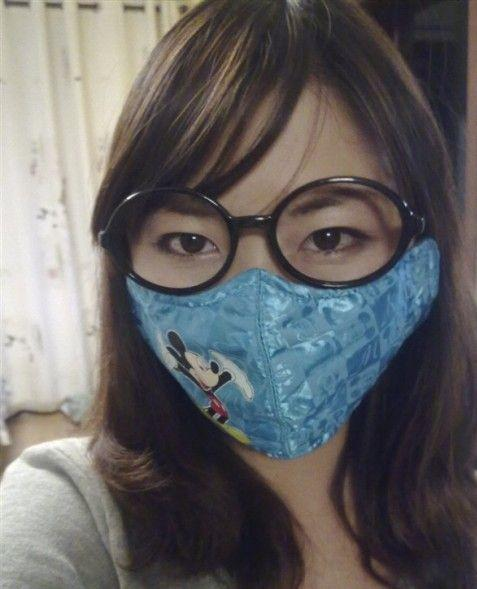OK: (123, 151, 419, 447)
